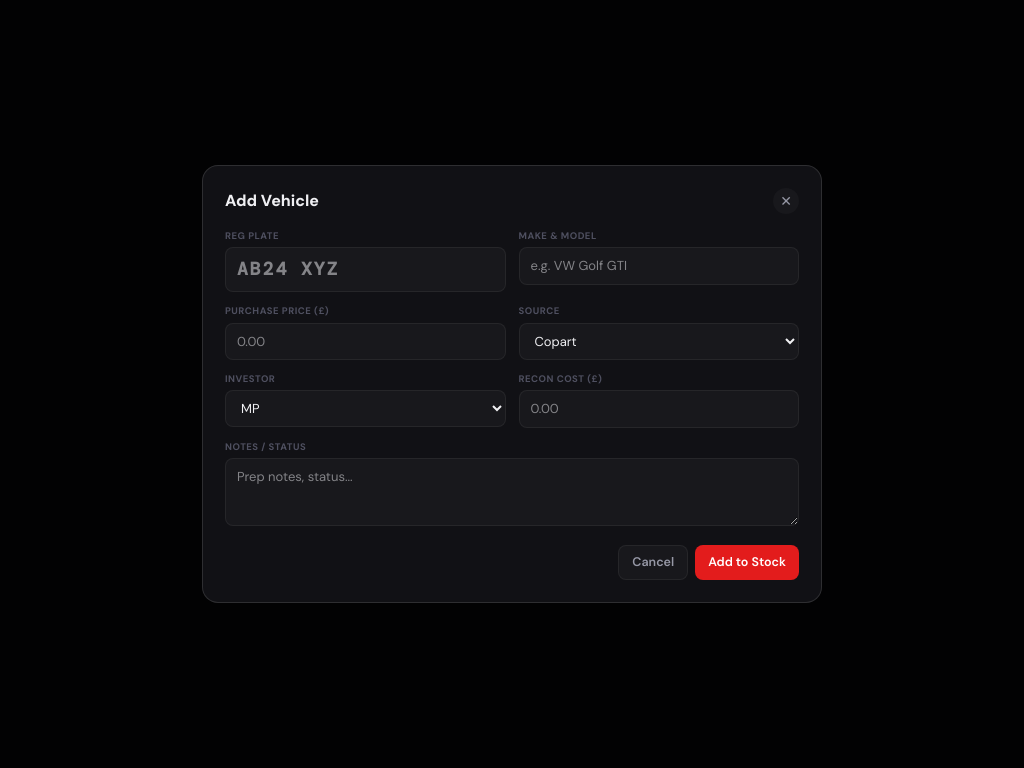
Test: AddVehicleModal › surfaces the API error message on failure
Type "ab24 xyz" into the field with placeholder "AB24 XYZ".
click(365, 270); type("ab24 xyz")  # box [225, 247, 506, 292]
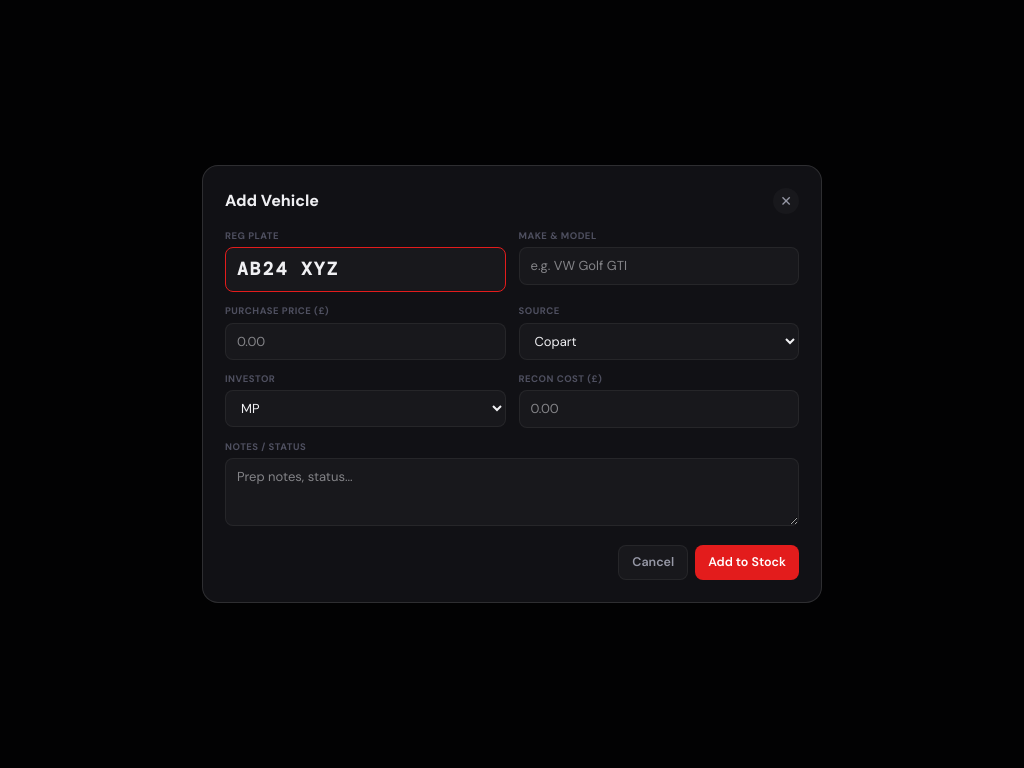
Type "VW Golf" into the field with placeholder "e.g. VW Golf GTI".
click(659, 266); type("VW Golf")  # box [518, 247, 799, 285]
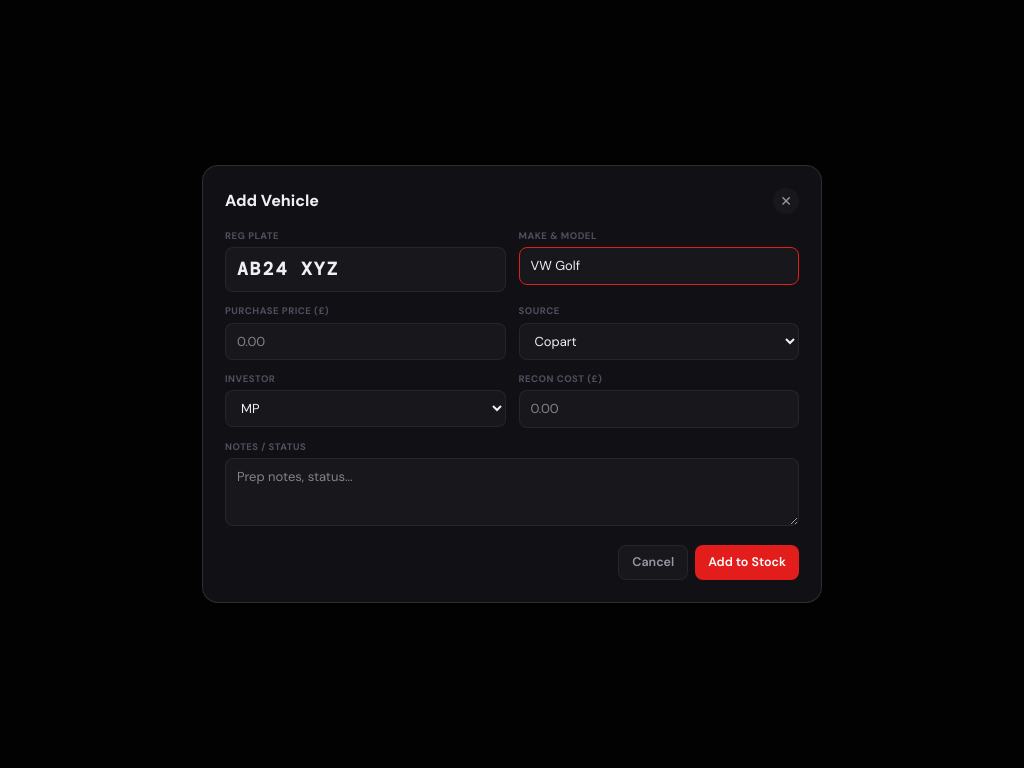
Click the button "Add to Stock".
click(747, 562)  # box [695, 545, 799, 580]
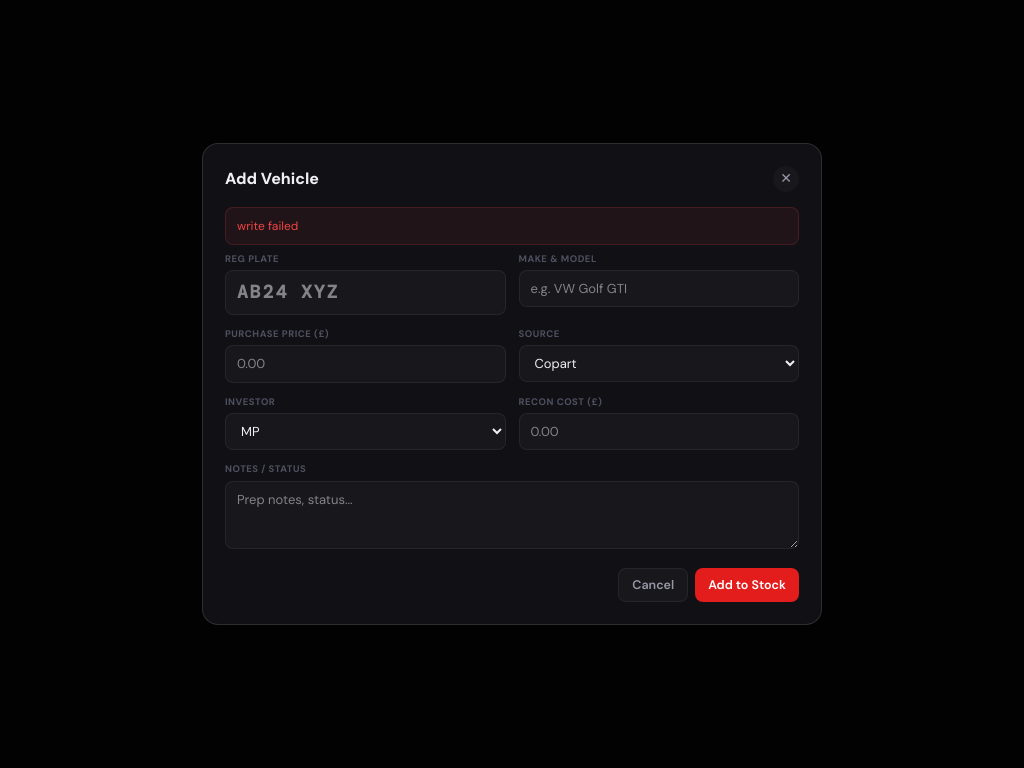
Expected: the text "write failed" is shown, [225, 207, 799, 245]
